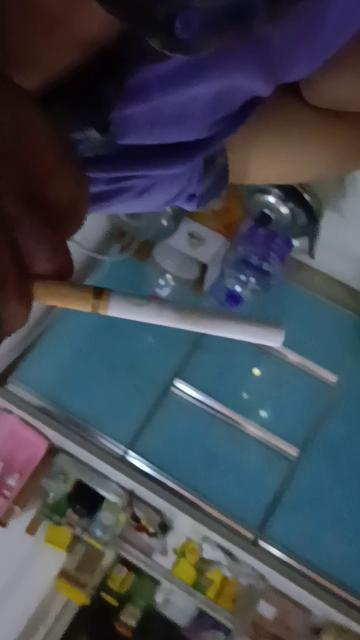Smoking: (31, 280, 286, 348)
